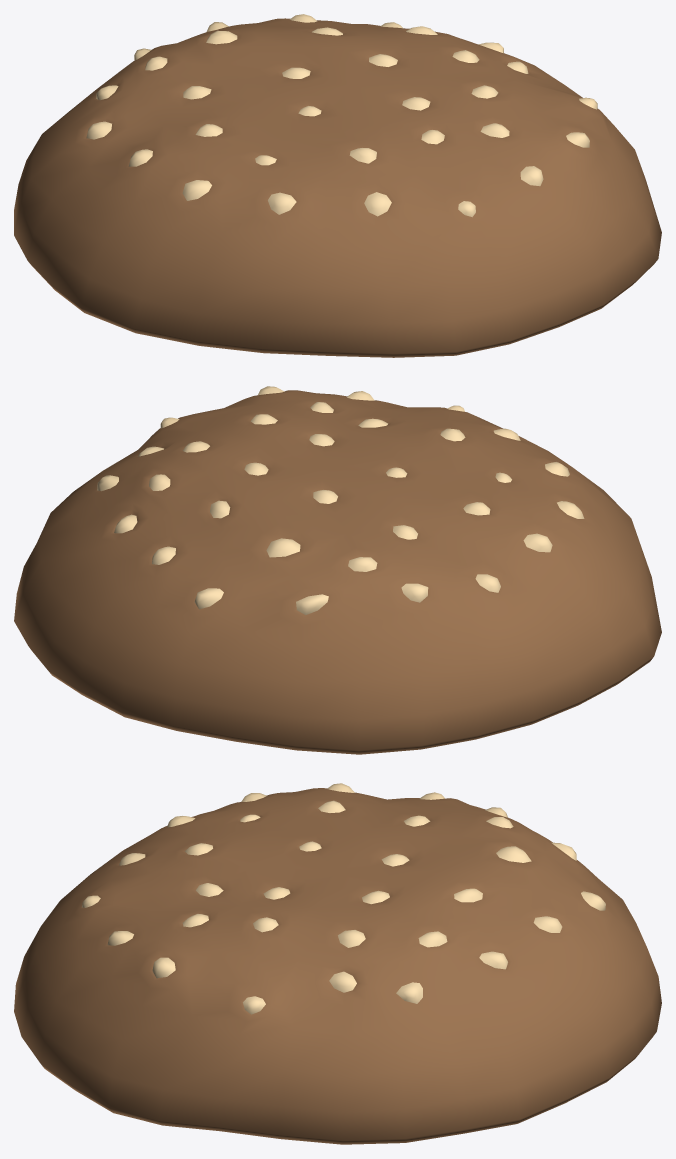
File: bun_top.FBX
The picture shows the model from 3 angles, top to bottom: view 1: azimuth 30°, elevation 25°; view 2: azimuth 150°, elevation 25°; view 3: azimuth 270°, elevation 25°; orthographic projection. The views are drawn at different scales.
Visible parts, largest first — view 1: bun_top; view 2: bun_top; view 3: bun_top.
Part boxes in pixels (left/top/right/bottom): bun_top: left=14, top=14, right=661, bottom=357; bun_top: left=14, top=386, right=661, bottom=754; bun_top: left=14, top=783, right=661, bottom=1144.
Size of the model in its own units: 19.67 by 5.05 by 19.62.
